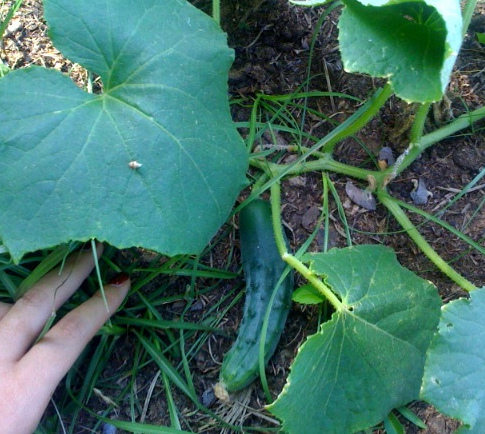cucumber: (211, 194, 295, 399)
